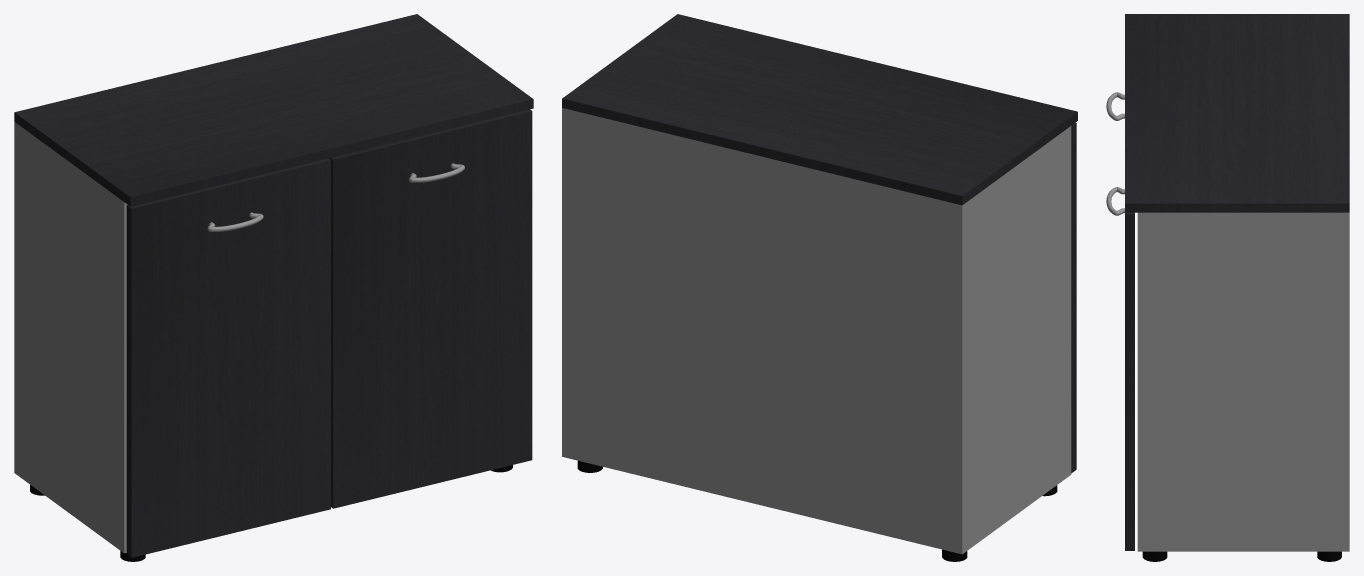
File: mobile9080W.obj
3 renders of one model, left to right at view 1: azimuth 30°, elevation 25°; view 2: azimuth 150°, elevation 25°; view 3: azimuth 270°, elevation 25°, orthographic. The views are drawn at different scales.
Parts seen in each view (by area): view 1: Box48_2, Box49_6, Box50_7, Box51_10; view 2: Box51_10, Box50_7, Box48_2; view 3: Box51_10, Box50_7, Box49_6.
Part boxes in pixels (x1,y1,x2,y2): Box48_2: (126, 158, 330, 557); Box49_6: (329, 109, 532, 508); Box50_7: (14, 14, 533, 206); Box51_10: (14, 122, 127, 553); Box51_10: (562, 108, 1071, 554); Box50_7: (562, 14, 1077, 205); Box48_2: (1071, 122, 1076, 473); Box51_10: (1137, 212, 1349, 551); Box50_7: (1125, 14, 1349, 212); Box49_6: (1125, 212, 1134, 550).
Bounding box in the file's own units: 90 × 80 × 48.75.
